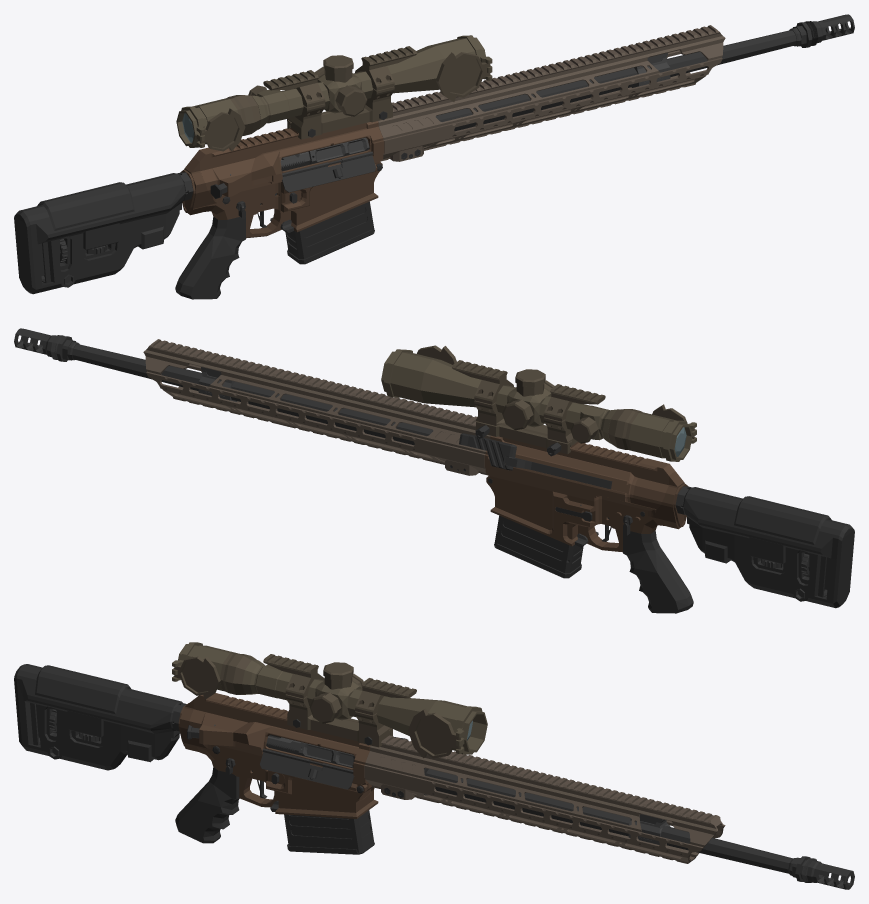
The model's file is sniper_s.w.o.r.d._mk-18_sa-asr_mjolnir-named-nodes.glb.
3 views of the same model, one above another, from view 1: azimuth 30°, elevation 25°; view 2: azimuth 150°, elevation 25°; view 3: azimuth 330°, elevation 25° (orthographic).
Parts seen in each view (by area): view 1: Object_19, Object_21, Object_10, Object_18, Object_11, Object_20, Object_15, Object_4, Object_16, Object_14; view 2: Object_19, Object_21, Object_11, Object_10, Object_15, Object_20, Object_18, Object_4, Object_14; view 3: Object_21, Object_19, Object_10, Object_18, Object_11, Object_15, Object_20, Object_4, Object_16, Object_14.
Part boxes in pixels (x1,y1,x2,y2): Object_19: [14, 173, 245, 299]; Object_21: [378, 25, 725, 161]; Object_10: [200, 46, 490, 151]; Object_18: [60, 14, 854, 286]; Object_11: [176, 35, 492, 147]; Object_20: [180, 157, 382, 238]; Object_15: [194, 121, 384, 196]; Object_4: [285, 201, 374, 264]; Object_16: [230, 53, 670, 175]; Object_14: [210, 149, 420, 231]; Object_19: [623, 487, 854, 613]; Object_21: [143, 339, 490, 475]; Object_11: [381, 349, 696, 461]; Object_10: [416, 345, 694, 454]; Object_15: [484, 435, 674, 510]; Object_20: [486, 471, 688, 552]; Object_18: [14, 328, 809, 600]; Object_4: [494, 515, 583, 578]; Object_14: [450, 433, 644, 545]; Object_21: [364, 735, 725, 863]; Object_19: [14, 664, 239, 843]; Object_10: [174, 653, 460, 758]; Object_18: [49, 703, 854, 889]; Object_11: [172, 642, 487, 754]; Object_15: [189, 693, 372, 791]; Object_20: [178, 700, 378, 818]; Object_4: [284, 810, 374, 854]; Object_16: [214, 724, 670, 844]; Object_14: [187, 725, 407, 811].
Size of the model in its own units: 1.15 by 0.2681 by 0.0779.
1 material, 1 textured.
